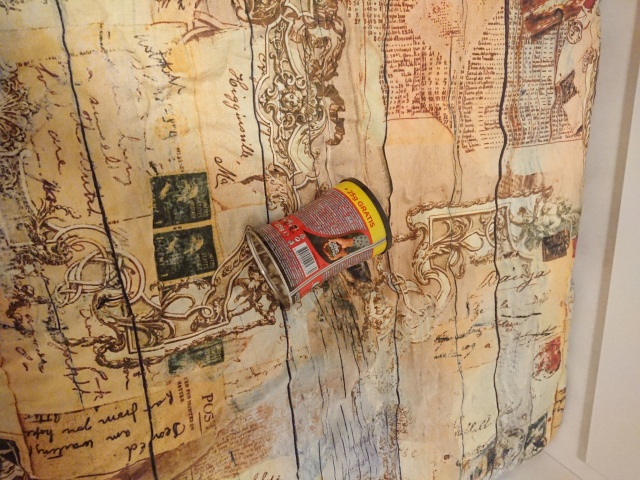Nescafe Classic 225g: (242, 175, 396, 309)
